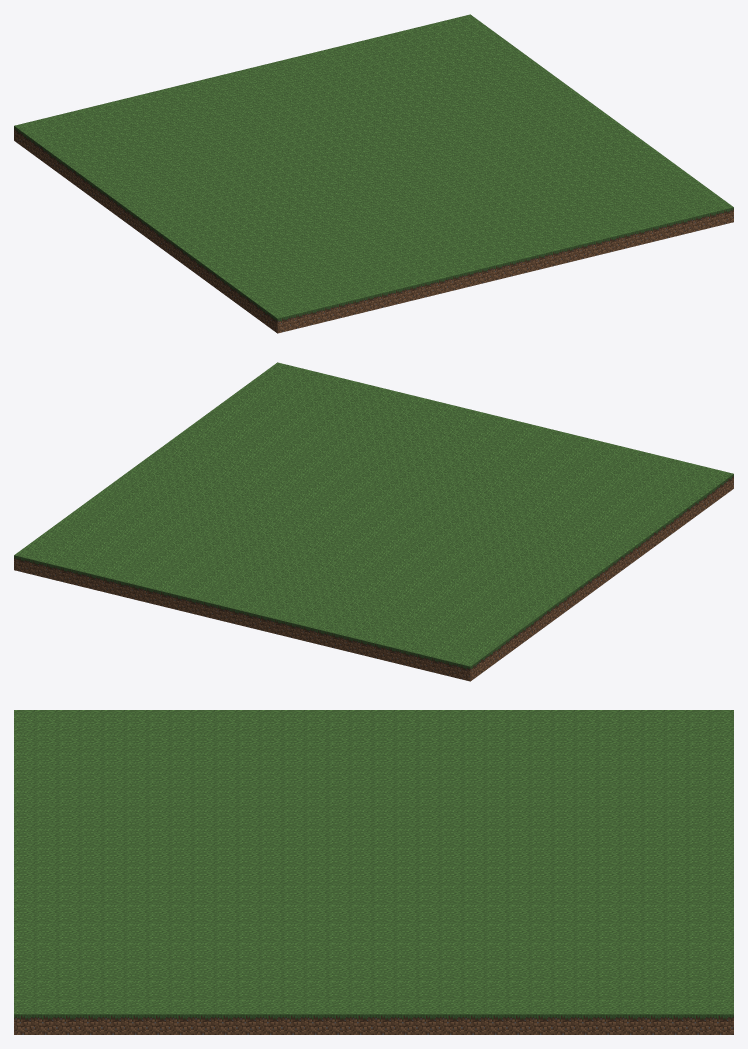
File: flatworld.obj
The picture shows the model from 3 angles, top to bottom: view 1: azimuth 30°, elevation 25°; view 2: azimuth 150°, elevation 25°; view 3: azimuth 270°, elevation 25°; orthographic projection. The views are drawn at different scales.
Parts seen in each view (by area): view 1: default 1, default; view 2: default 1, default; view 3: default, default 1.
Part boxes in pixels (x1,y1,x2,y2): default 1: [14, 18, 719, 333]; default: [28, 14, 733, 329]; default 1: [28, 366, 733, 681]; default: [14, 362, 719, 677]; default: [14, 719, 733, 1034]; default 1: [14, 710, 733, 1004].
Bounding box in the file's own units: 64 × 2 × 64.
Materials: 1 (1 with a texture image).
